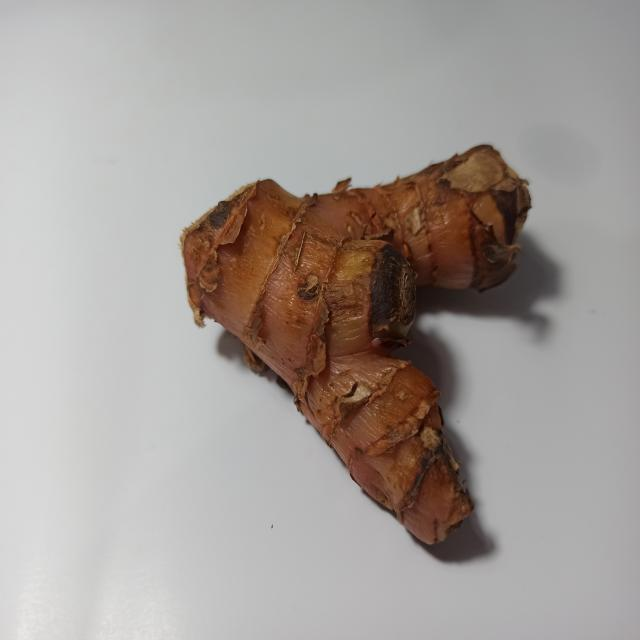ginger: (169, 132, 534, 520)
